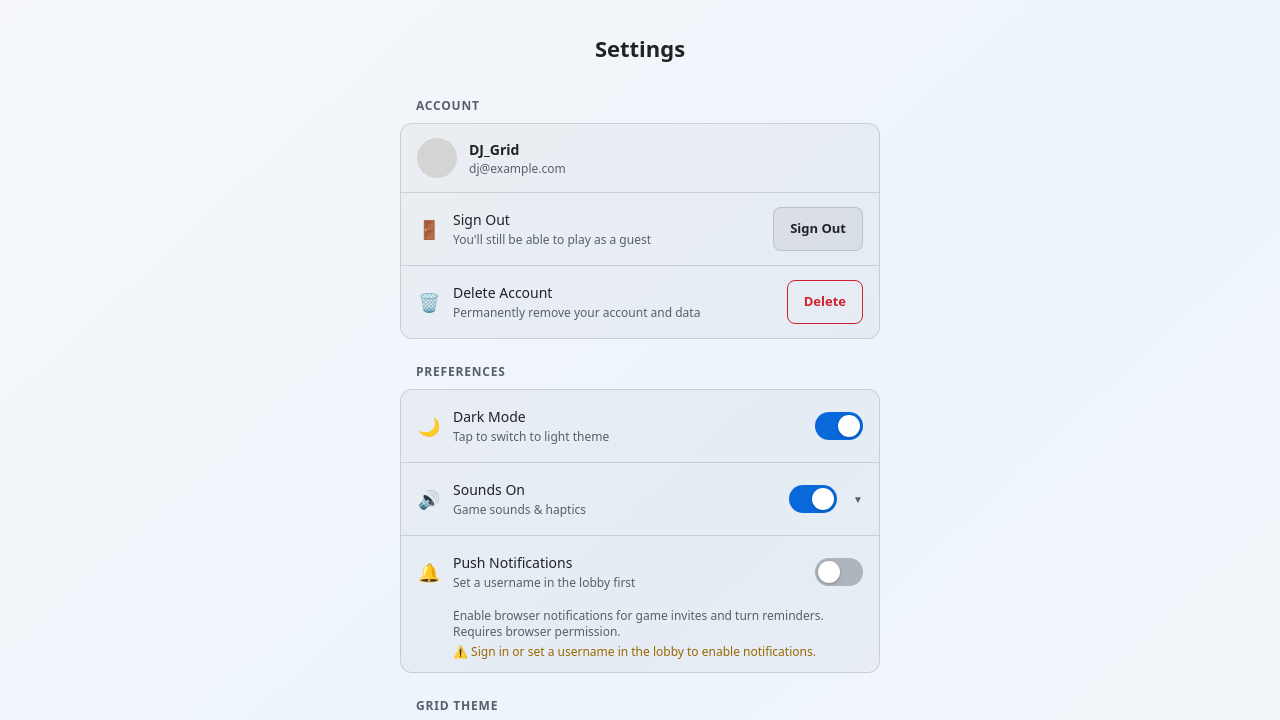
it: Settings Account Section › shows error when delete API fails
Click the button with test id "auth-delete-button": [825, 302] box [787,280,863,324]
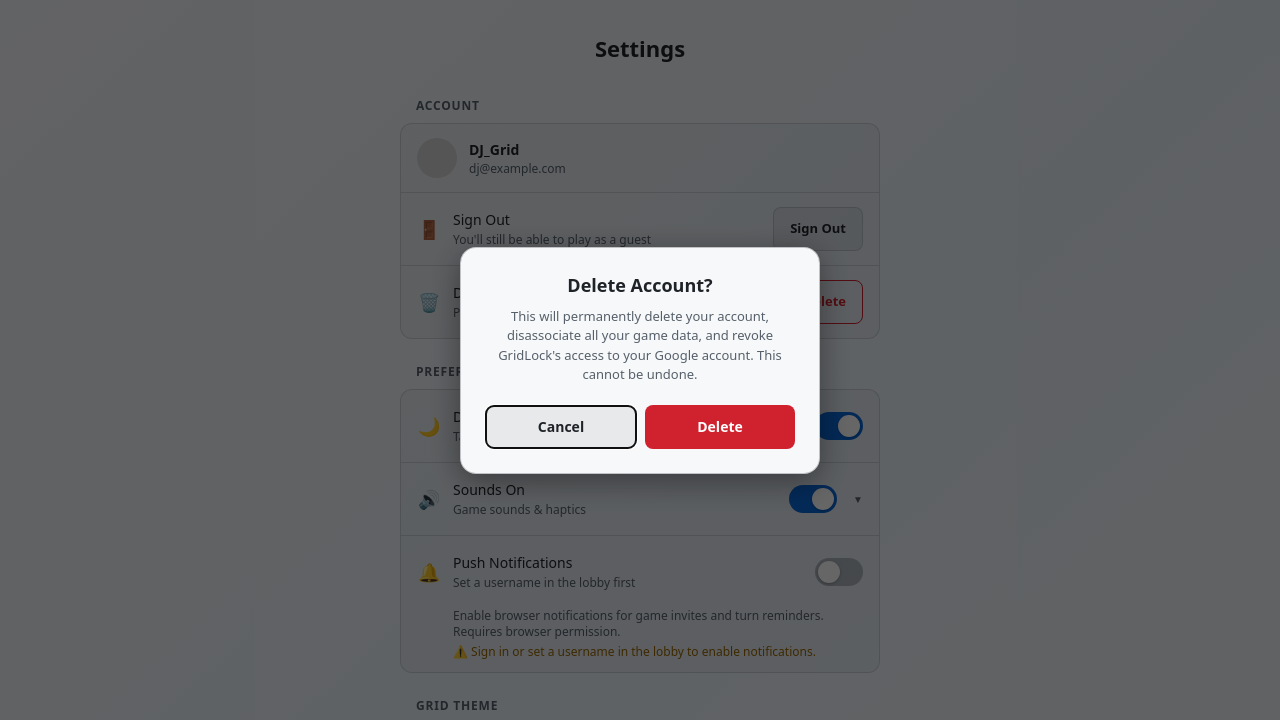
Click the button with test id "delete-confirm-button": [720, 426] box [645,404,795,448]
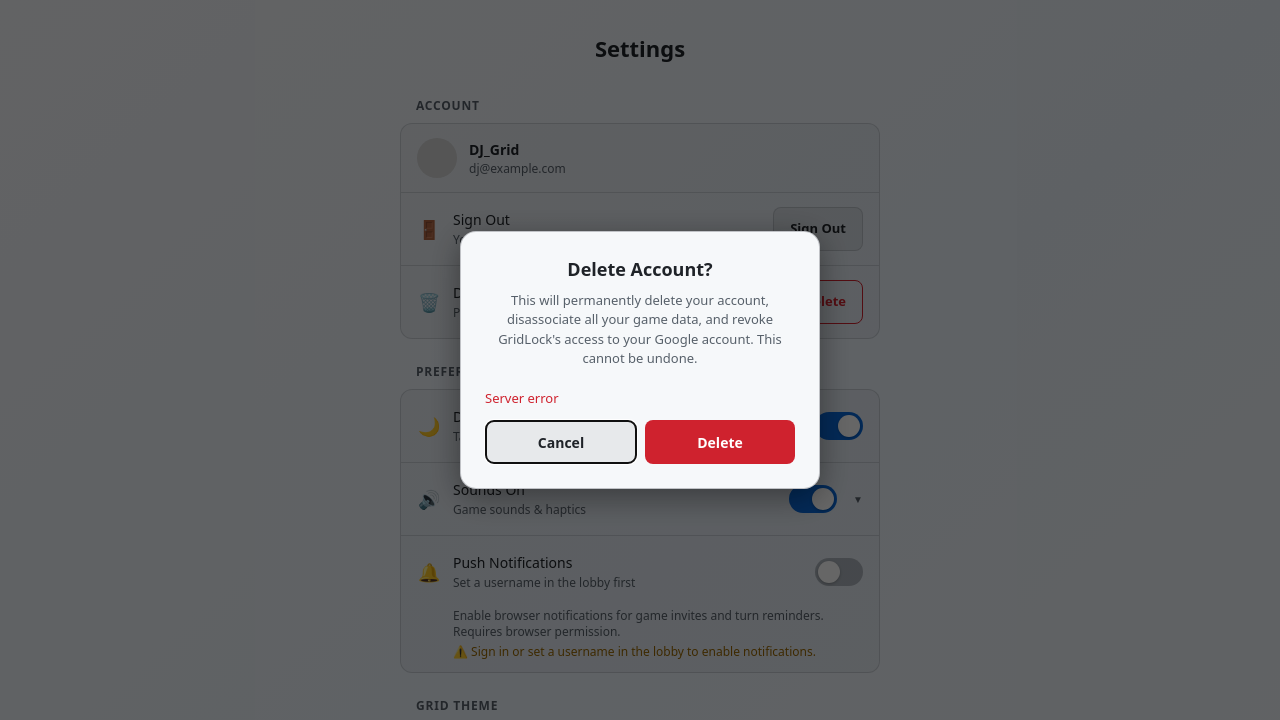
Result: the dialog with test id "delete-confirm-modal" is shown
Result: the message with test id "delete-error" reads "Server error" at [485,389,559,407]
